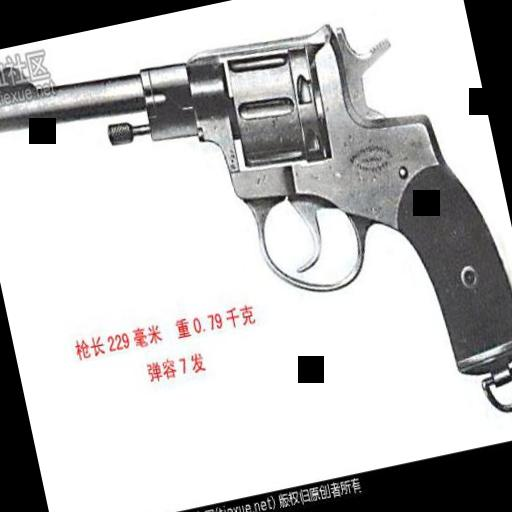Handgun: (0, 0, 512, 463)
